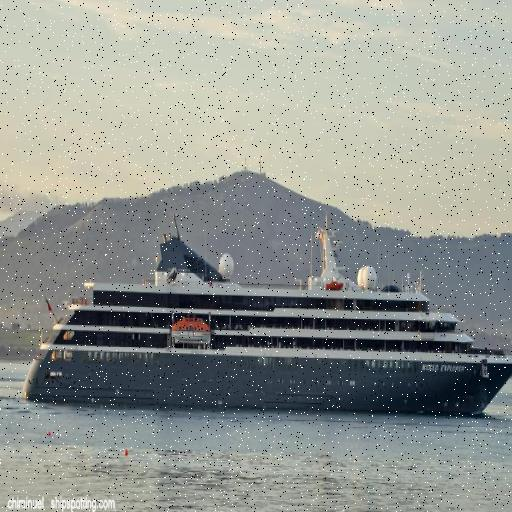cruises: (19, 206, 512, 424)
